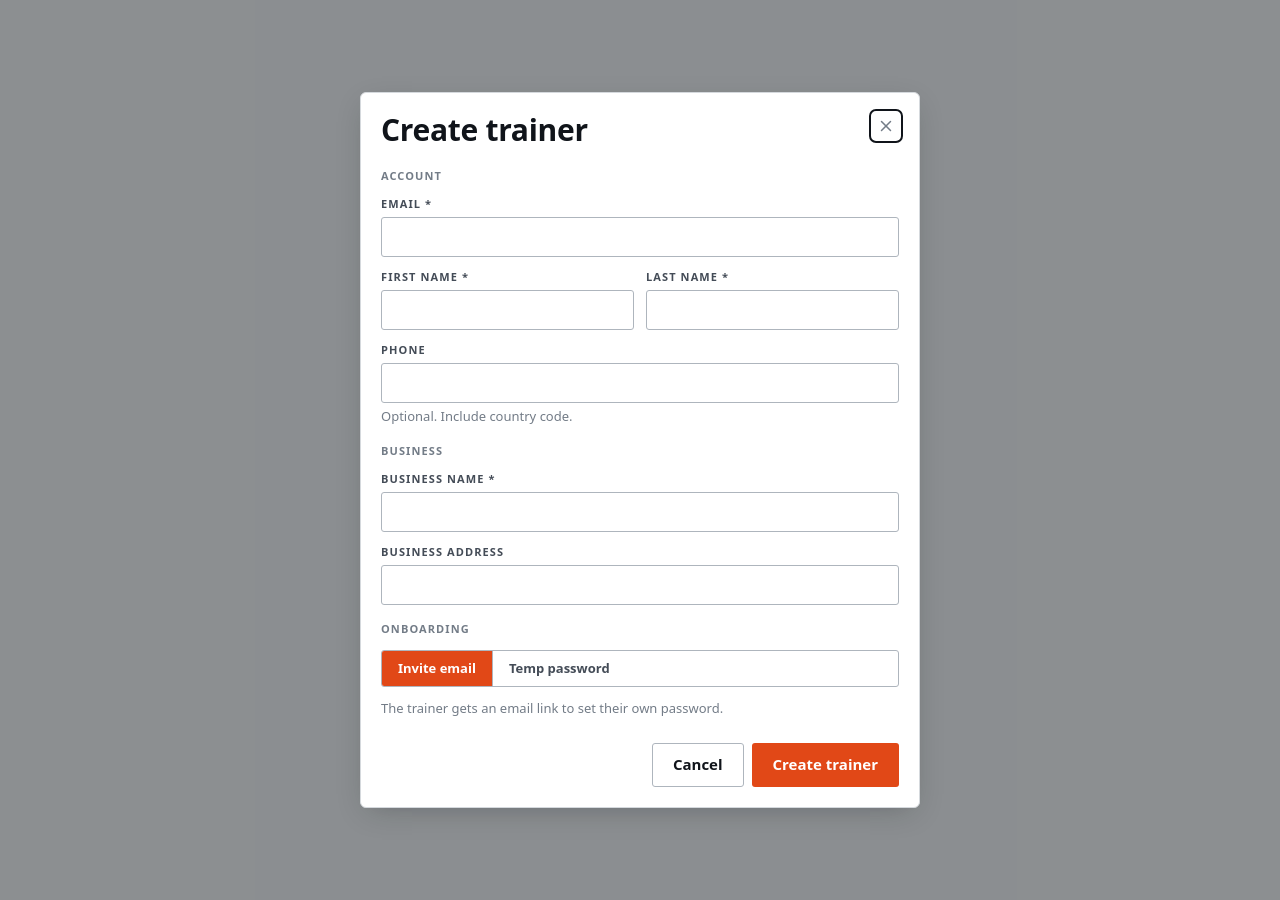
CreateTrainerModal › maps 409 EMAIL_EXISTS to a field error and does not create
Type "coach@club.com" into the field labelled "Email *".
click(640, 237); type("coach@club.com")  # box [381,217,899,257]
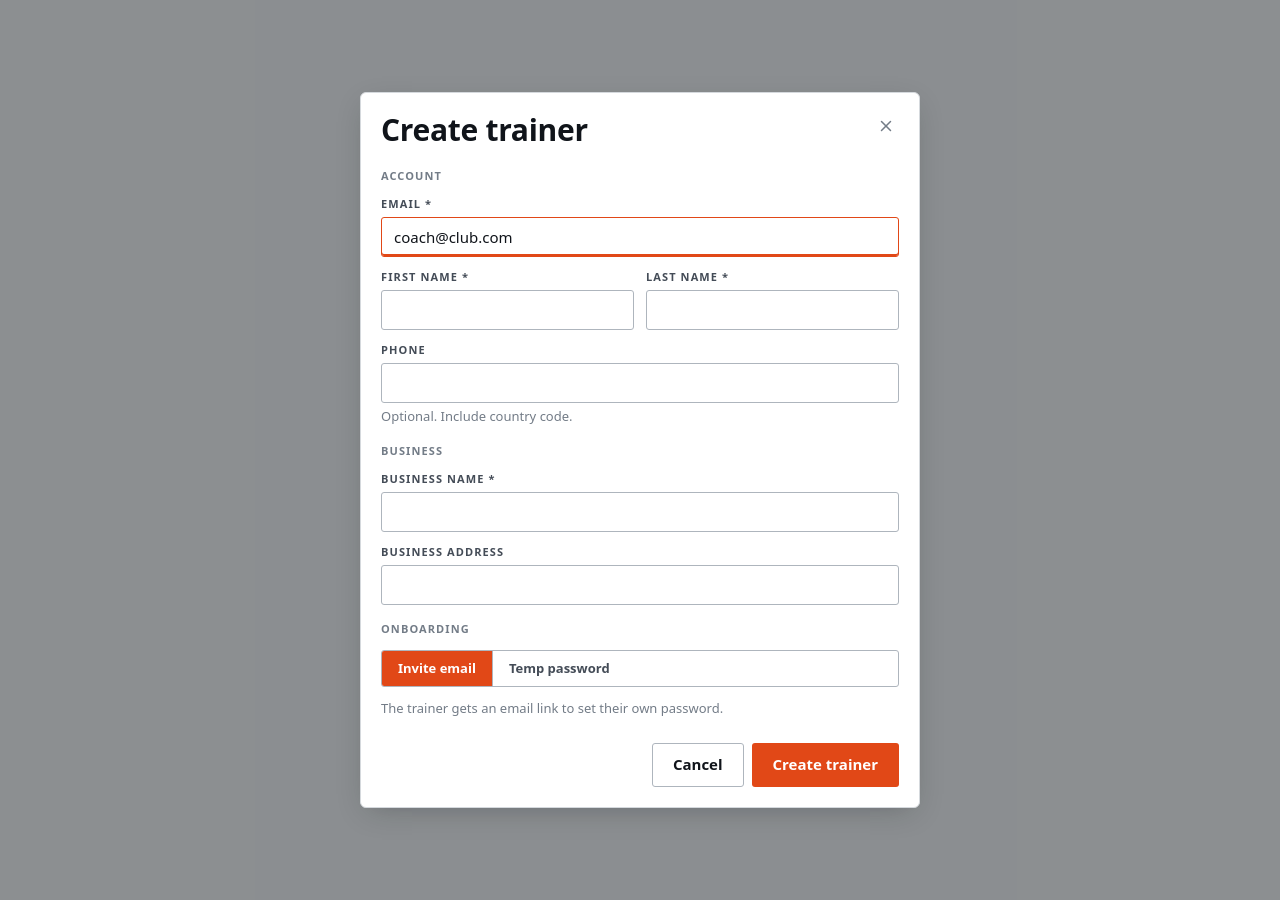
Type "Casey" into the field labelled "First name *".
click(508, 310); type("Casey")  # box [381,290,634,330]
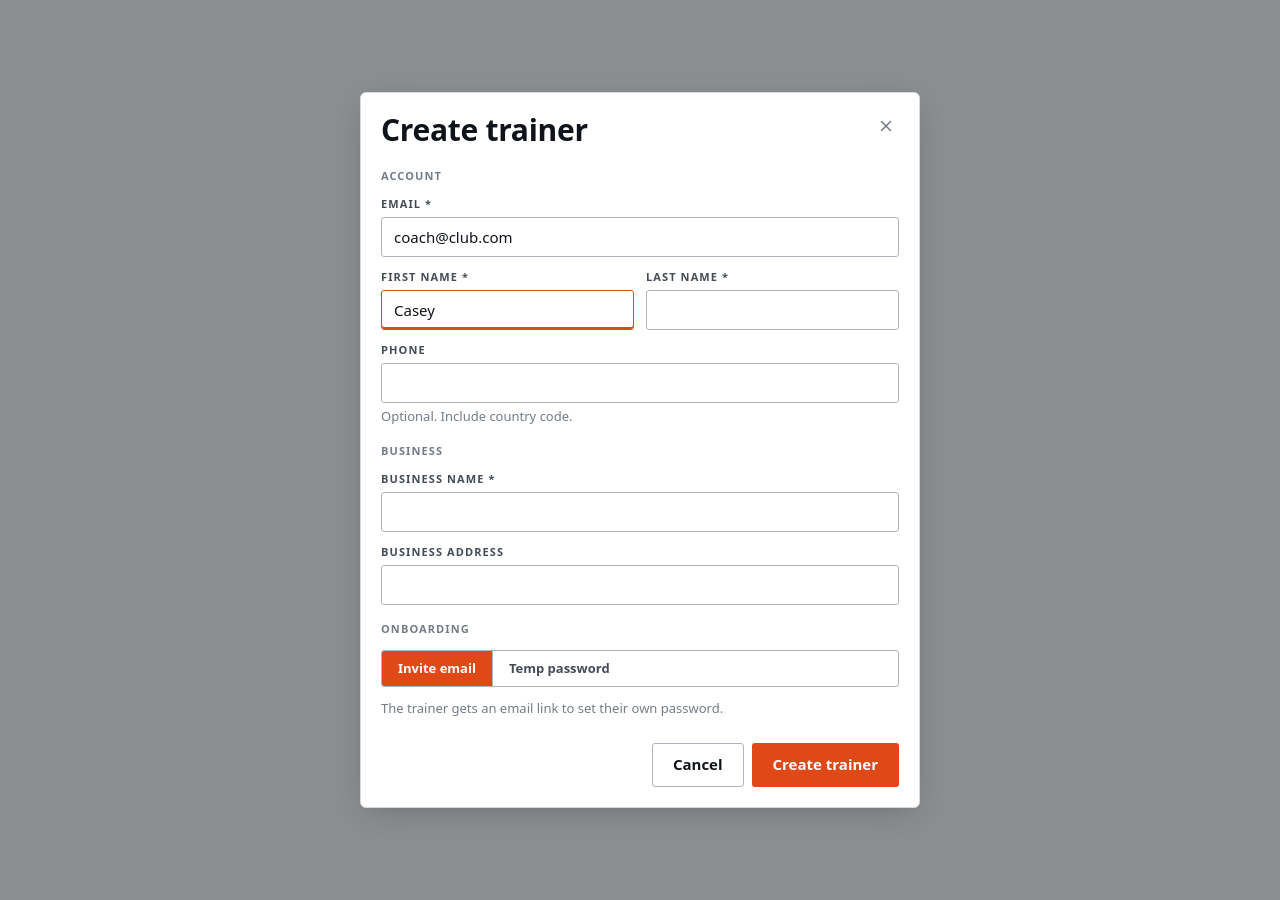
Type "Coach" into the field labelled "Last name *".
click(772, 310); type("Coach")  # box [646,290,899,330]
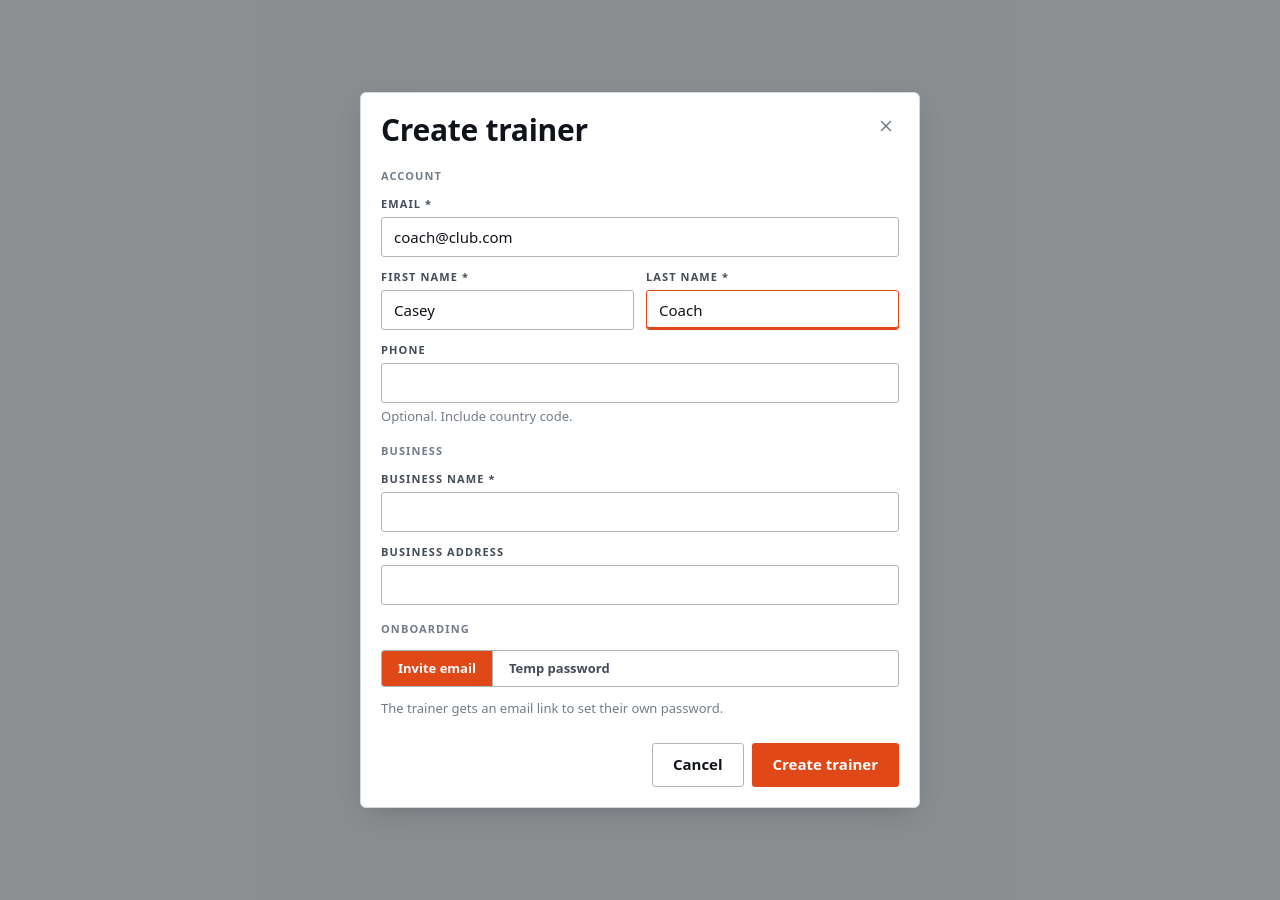
Type "Club FC" into the field labelled "Business name *".
click(640, 512); type("Club FC")  # box [381,492,899,532]
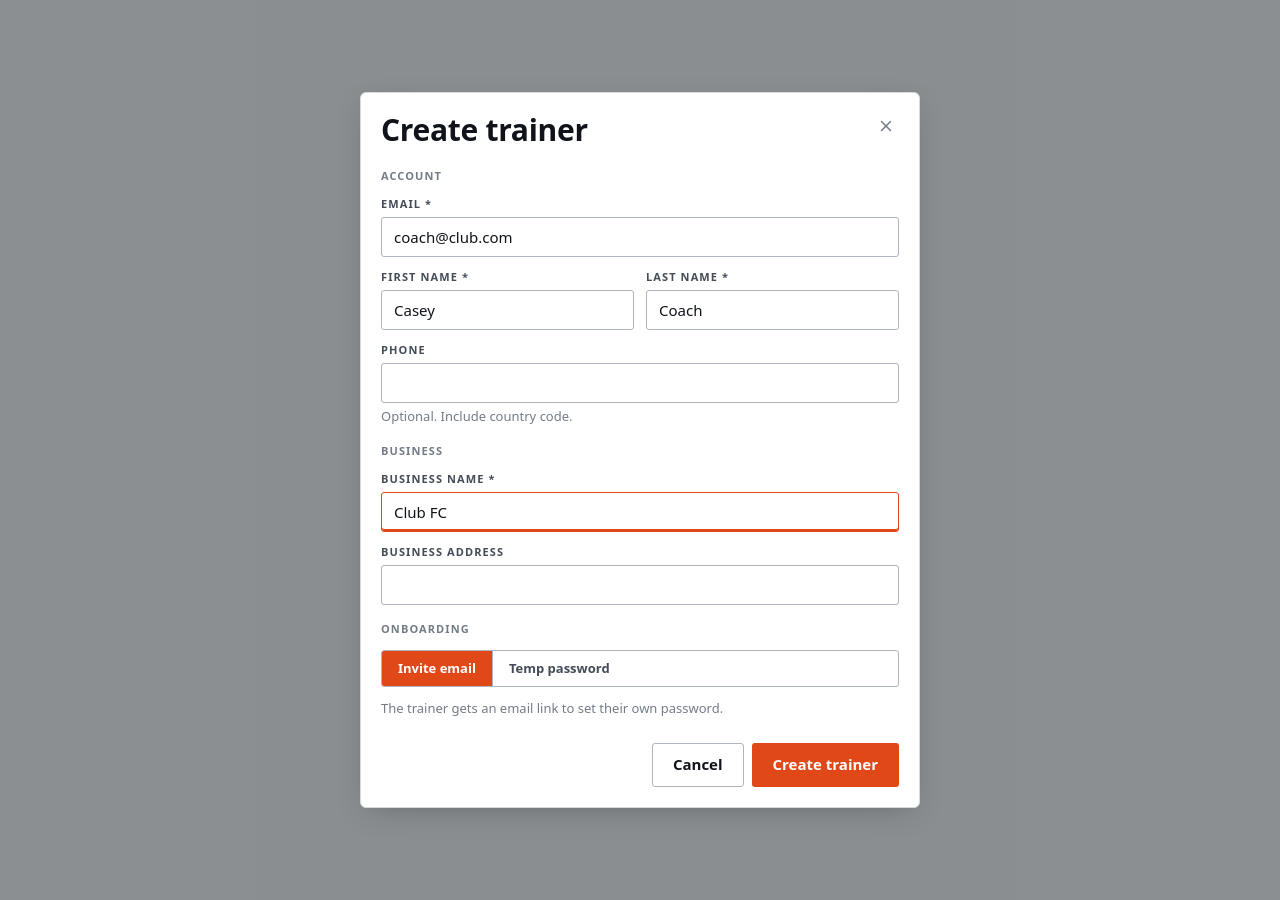
Click the button "Create trainer".
click(825, 765)  # box [752,743,899,787]
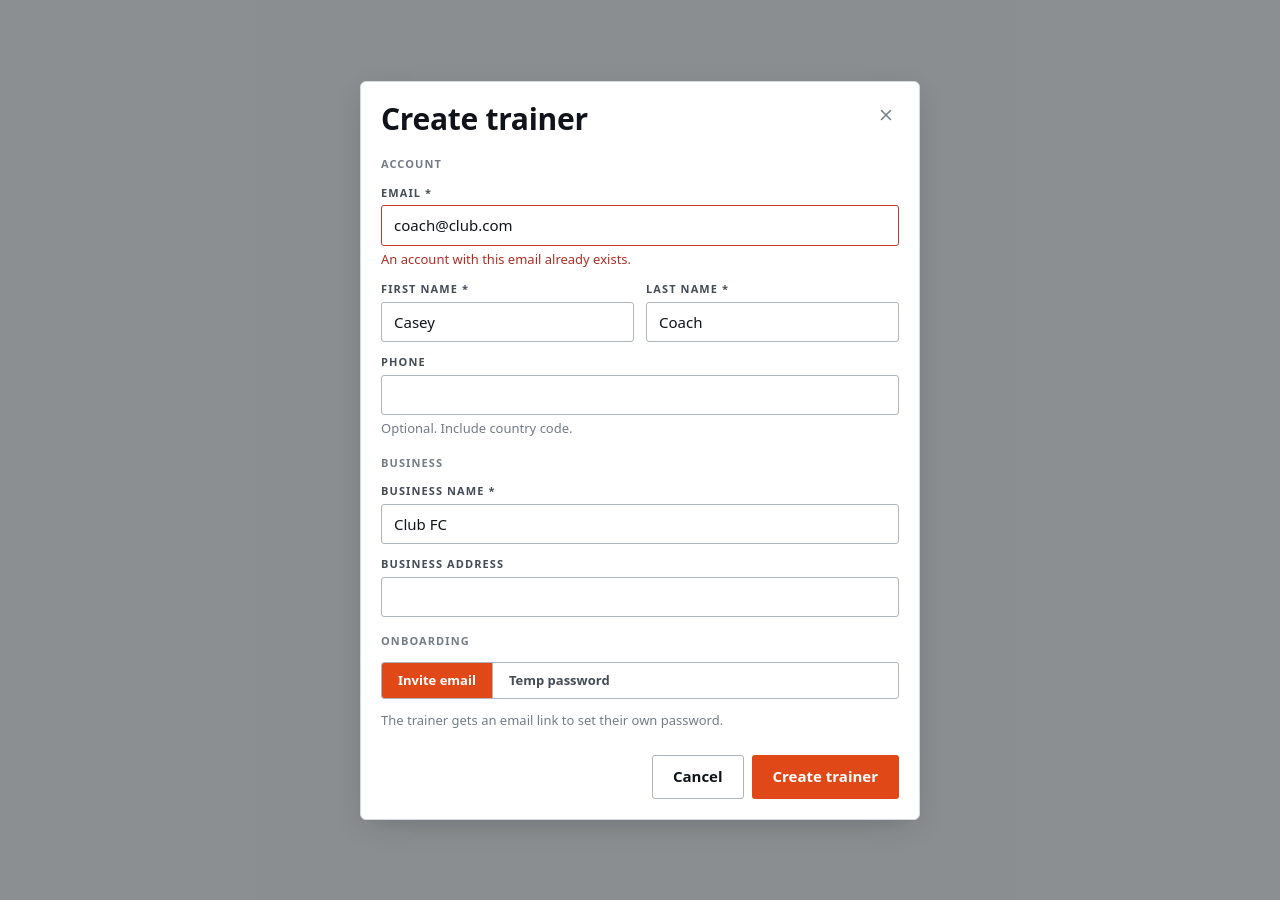
Expected: the text "An account with this email already exists." is shown, [381,250,631,268]
